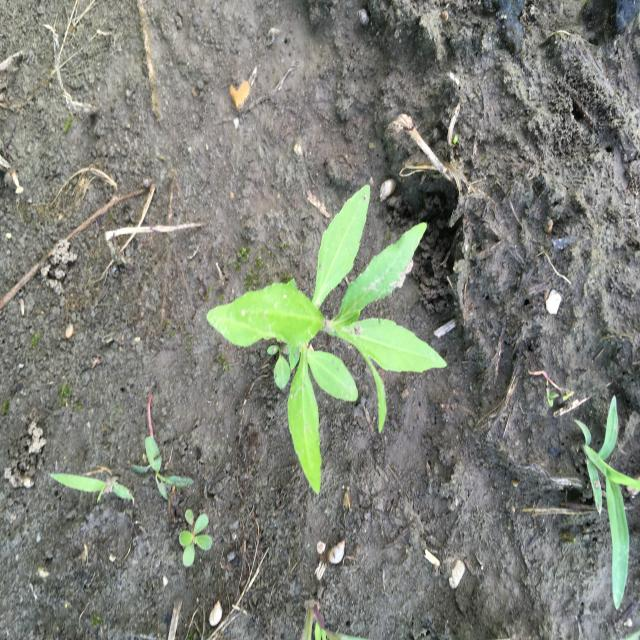Eclipta: (204, 181, 450, 496)
